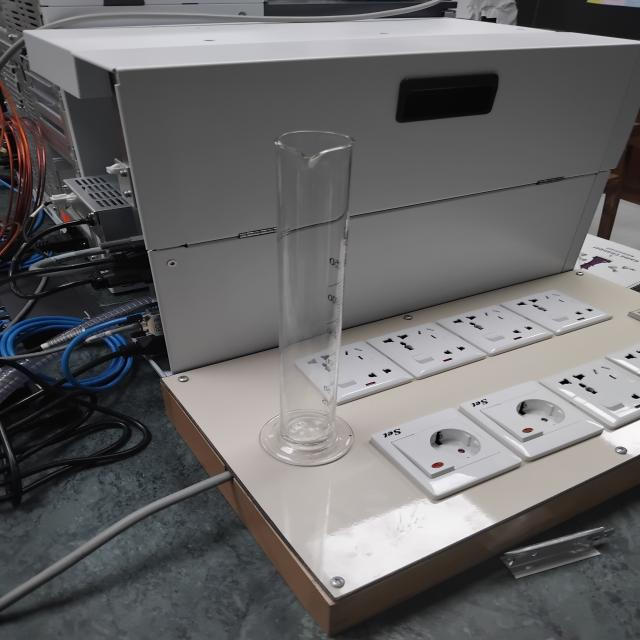Measuring_Cylinder: (203, 90, 420, 482)
